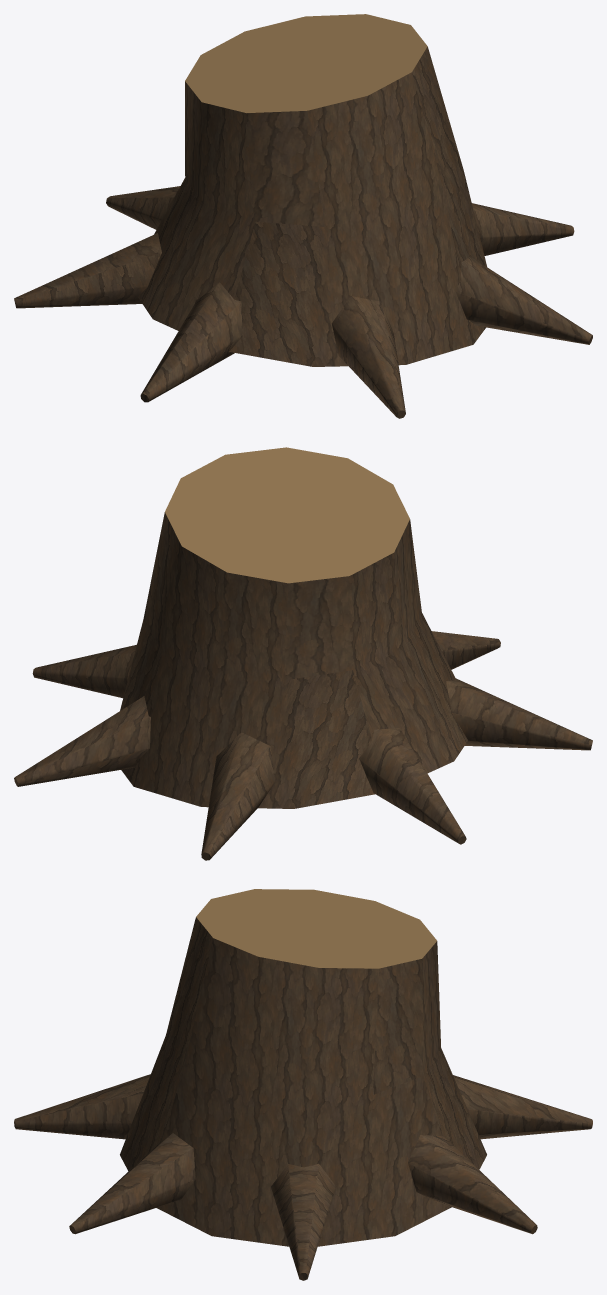
3 renders of one model, top to bottom at view 1: azimuth 30°, elevation 25°; view 2: azimuth 150°, elevation 25°; view 3: azimuth 270°, elevation 25°, orthographic.
Parts seen in each view (by area): view 1: Ancient snapped trunk; view 2: Ancient snapped trunk; view 3: Ancient snapped trunk.
Part boxes in pixels (x1=…): Ancient snapped trunk: x1=14, y1=14, x2=592, y2=418; Ancient snapped trunk: x1=14, y1=447, x2=592, y2=860; Ancient snapped trunk: x1=14, y1=889, x2=592, y2=1280.
Size of the model in its own units: 8.61 by 4.36 by 8.82.
2 materials, 1 textured.
